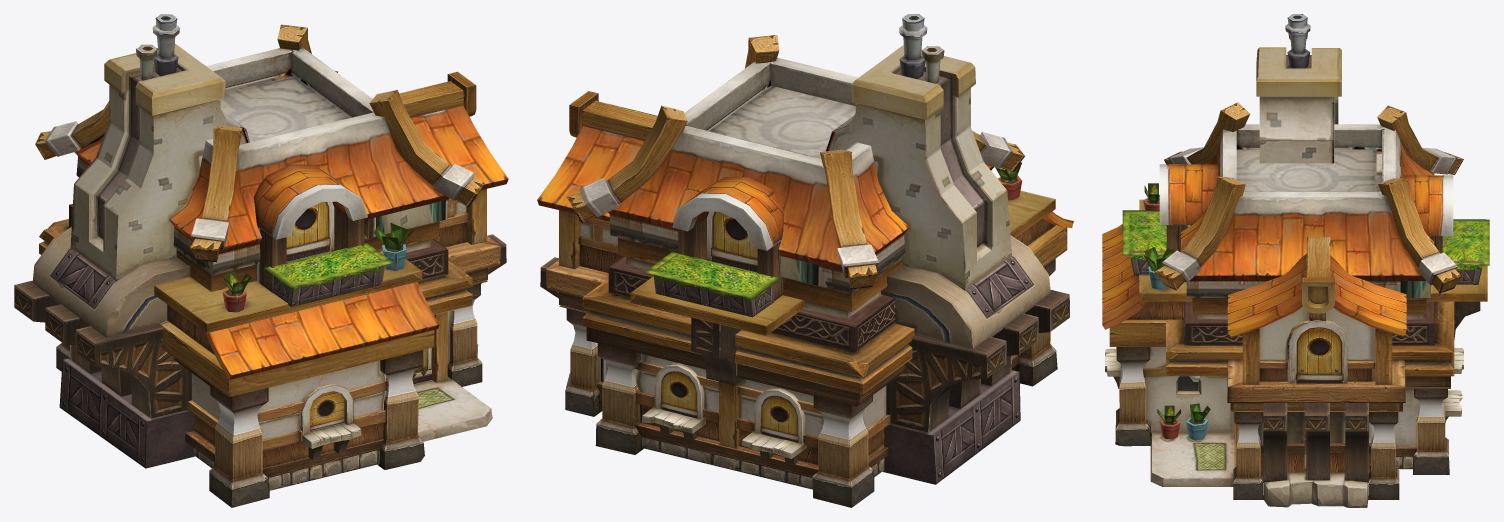
The model's file is house.obj.
The picture shows the model from 3 angles, left to right: view 1: azimuth 30°, elevation 25°; view 2: azimuth 150°, elevation 25°; view 3: azimuth 270°, elevation 25°; orthographic projection. The views are drawn at different scales.
Parts seen in each view (by area): view 1: objpolySurface1176; view 2: objpolySurface1176; view 3: objpolySurface1176.
Part boxes in pixels (x1,y1,x2,y2): objpolySurface1176: (14, 14, 508, 507); objpolySurface1176: (537, 14, 1073, 507); objpolySurface1176: (1102, 14, 1489, 507).
Bounding box in the file's own units: 478 × 428 × 417.
